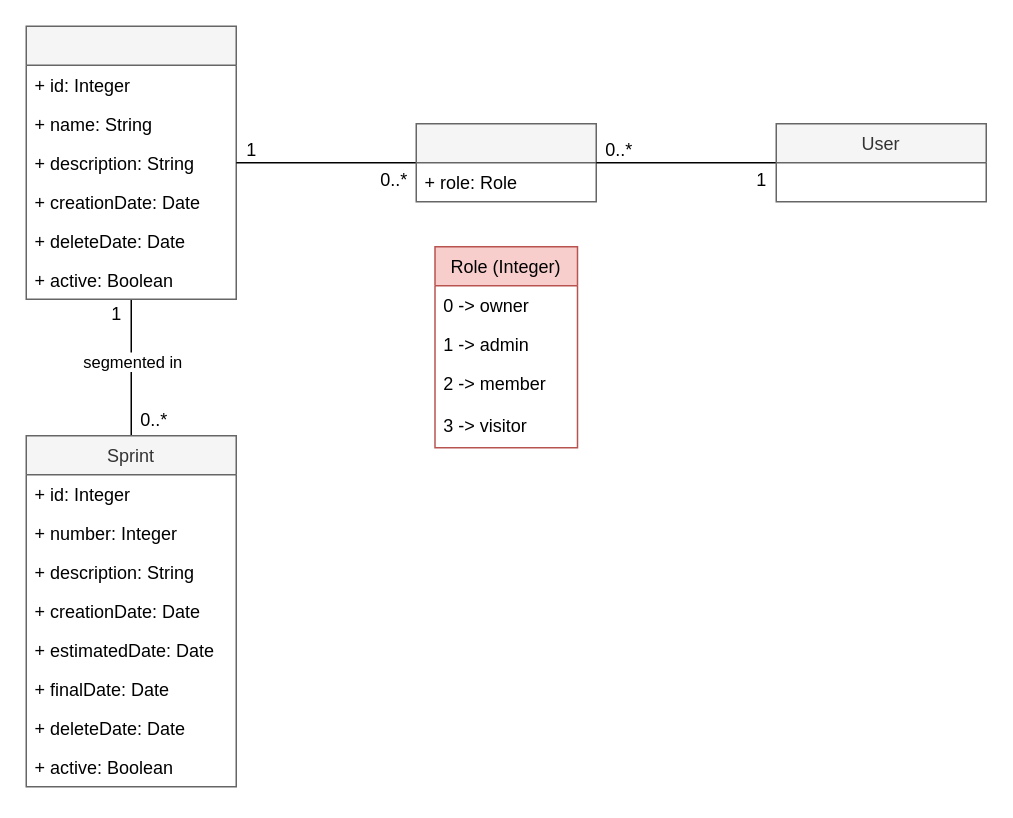
Some shapes in this 1013 by 818 pixel diagram are drawn without their labels. Here are the shapes that lost their labels. From the top down, the box of each, then its label:
(25, 25, 236, 299): Project
(415, 122, 596, 202): ProjectRole
